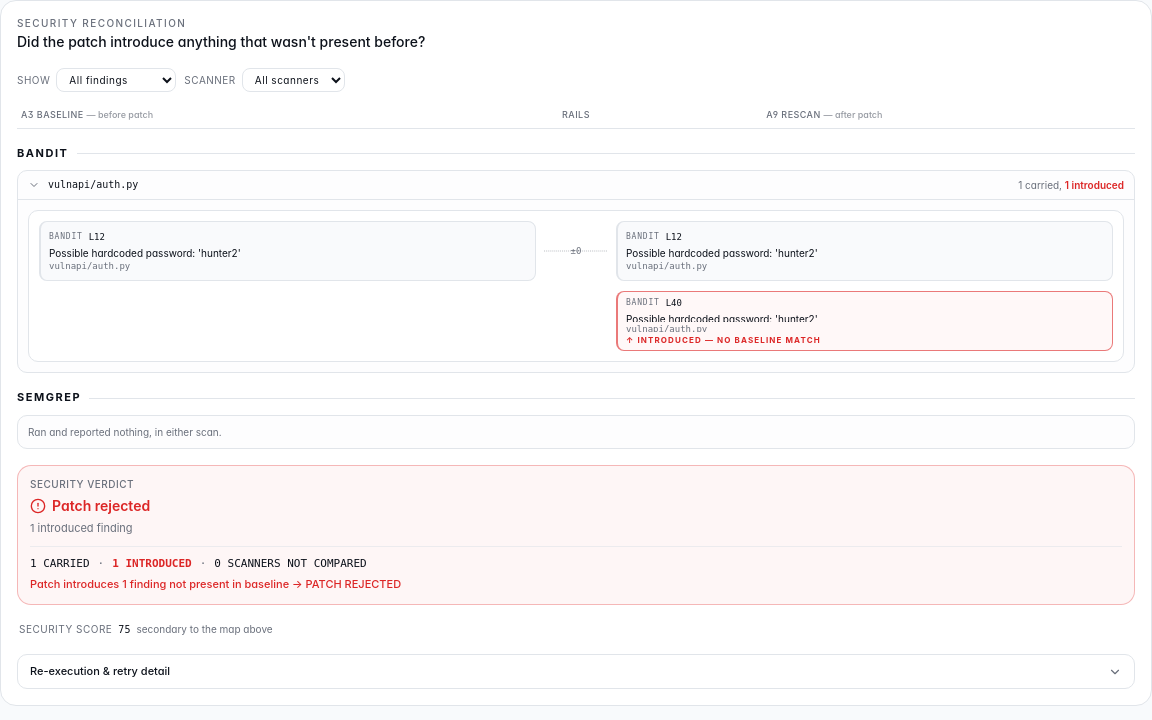
SecurityRescanPanel — honesty about what was recorded › exposes re-execution and A10 handoff detail only behind progressive disclosure
Check: the text "bandit -f json -q -r vulnapi" is not shown
Click the button "Re-execution & retry detail" at (100, 671), box [18,655,1134,688]
(page scrolled)
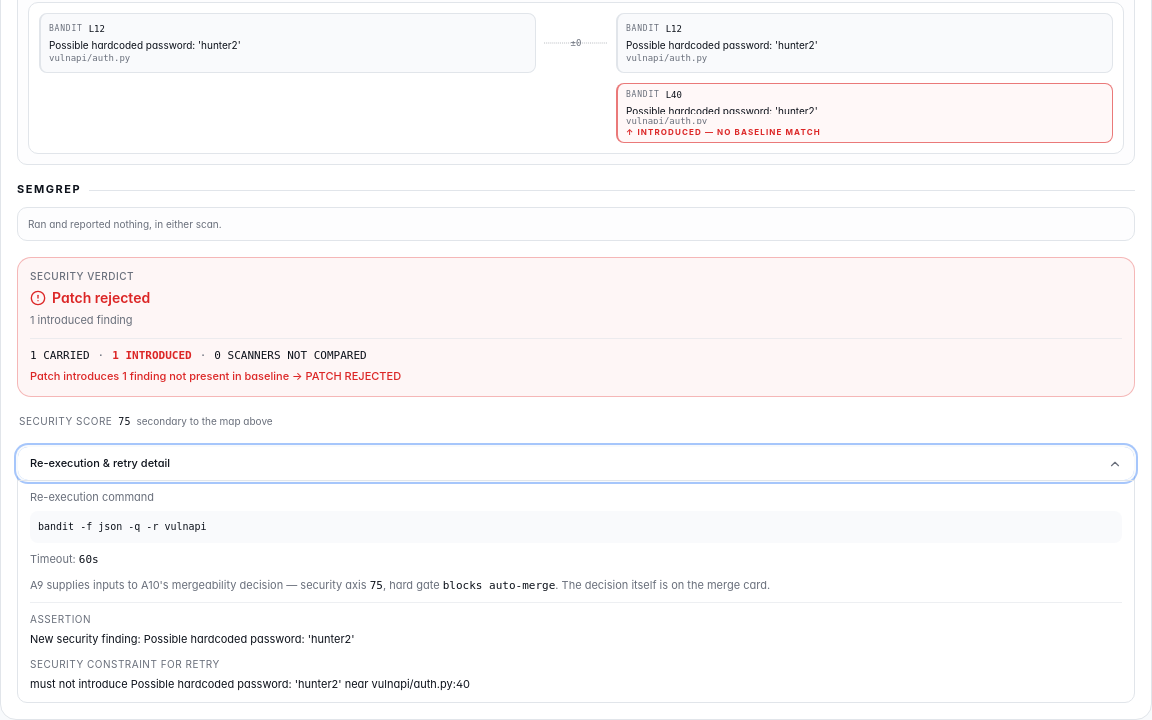
Check: the text "bandit -f json -q -r vulnapi" is shown, box [30,511,1122,543]
Check: the text "blocks auto-merge" is shown, box [443,579,555,592]
